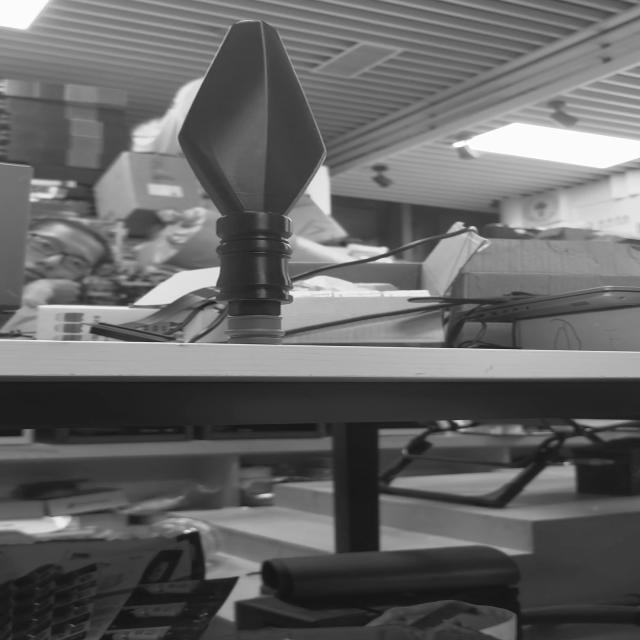base: (217, 310, 287, 348)
